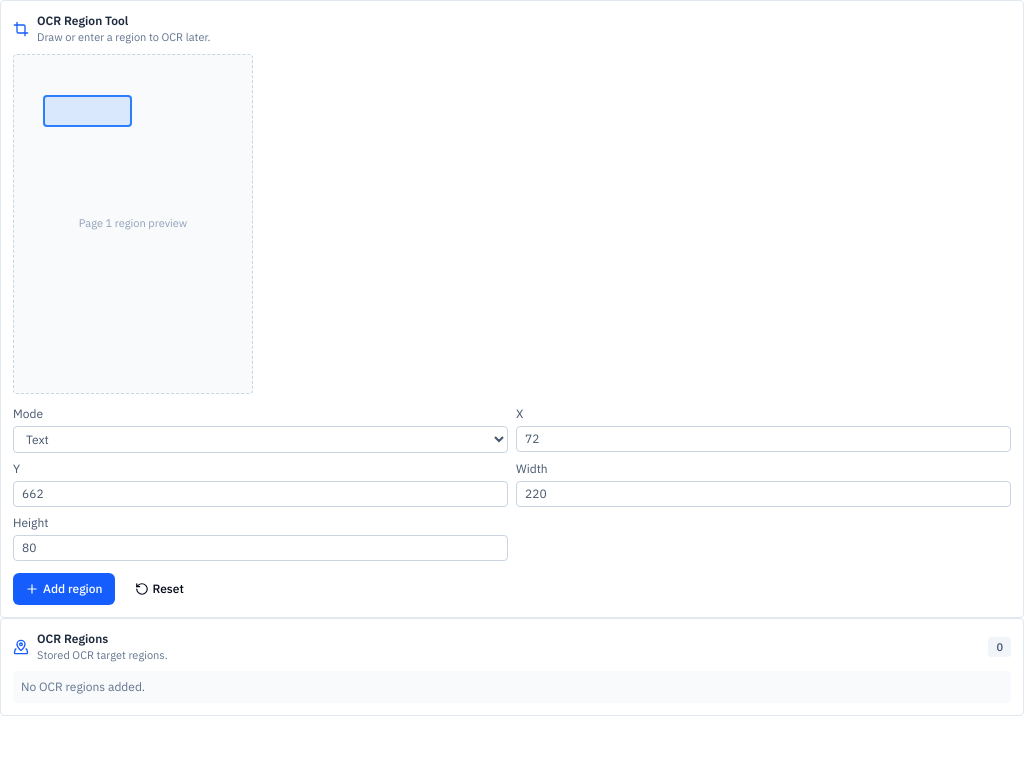
Test: OcrRegionTool › resets draft region
Replace the text in the number field with test id "ocr-region-x" with "123": (764,438) [516, 426, 1011, 452]
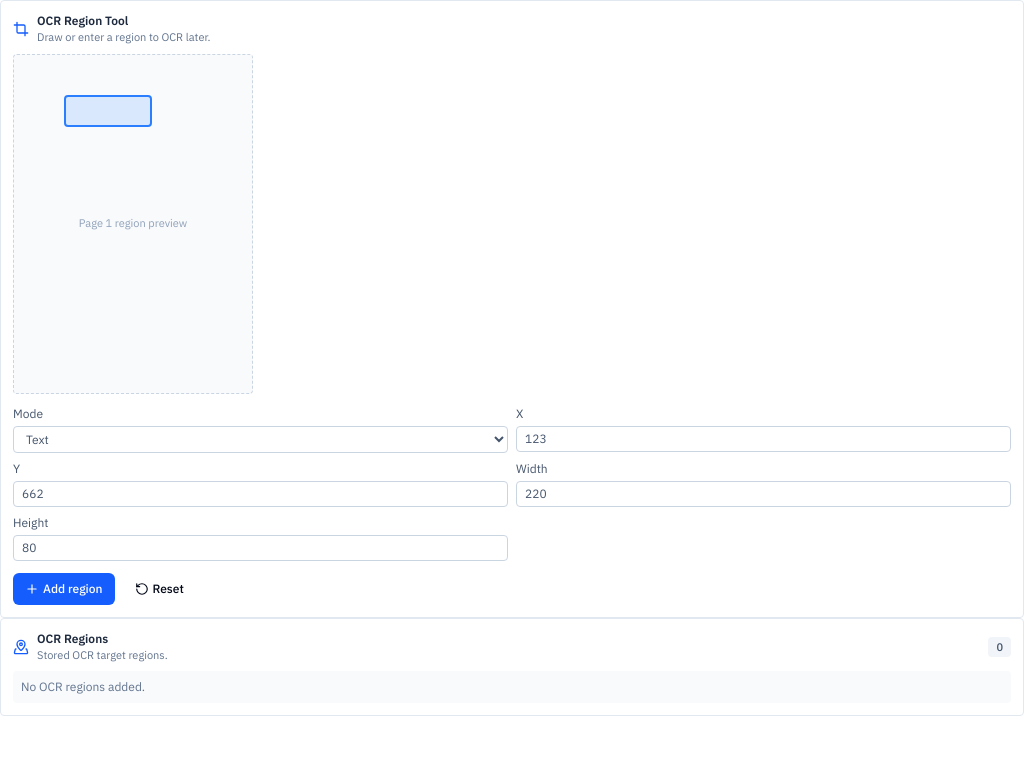
Click the button with test id "ocr-region-reset": (159,588) [122, 572, 196, 604]
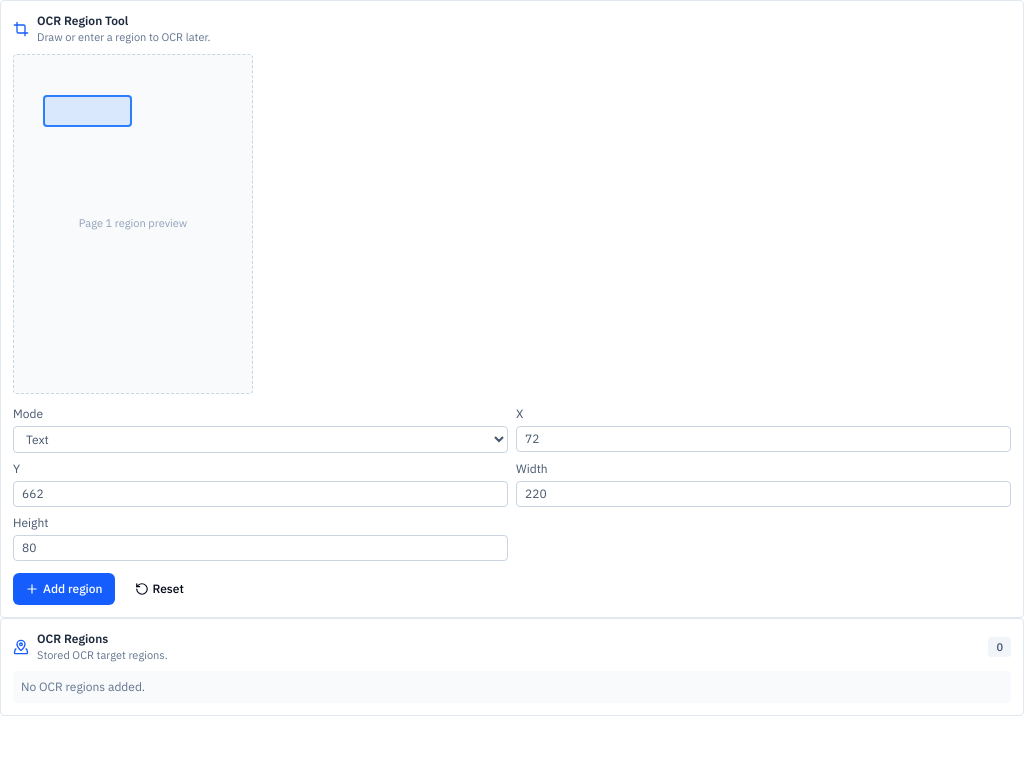
expect the number field with test id "ocr-region-x" holds "72": met, box [516, 426, 1011, 452]
